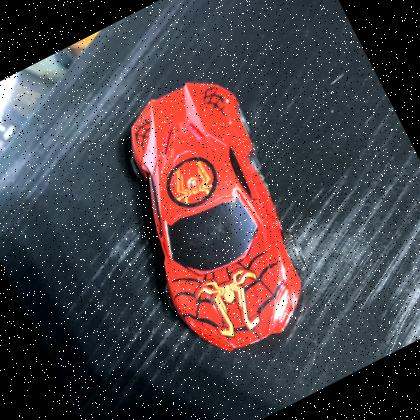Car: (72, 52, 350, 380)
